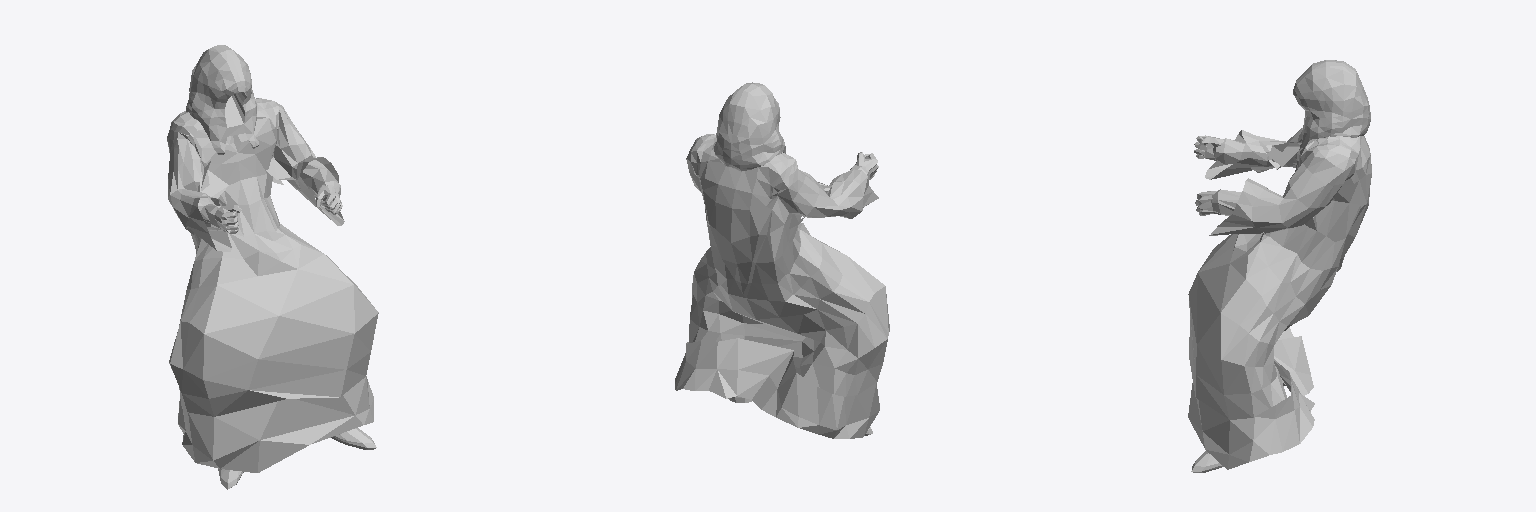
Rendered from Rider_Animate_Grab_Glide_20.obj.
3 renders of one model, left to right at view 1: azimuth 30°, elevation 25°; view 2: azimuth 150°, elevation 25°; view 3: azimuth 270°, elevation 25°, orthographic.
Parts seen in each view (by area): view 1: dm_nazgulrobe_ride_241108; view 2: dm_nazgulrobe_ride_241108; view 3: dm_nazgulrobe_ride_241108.
Part boxes in pixels (x1,y1,x2,y2): dm_nazgulrobe_ride_241108: (167,45,378,489); dm_nazgulrobe_ride_241108: (675,82,889,438); dm_nazgulrobe_ride_241108: (1188,60,1371,472).
Bounding box in the file's own units: 0.3673 × 0.6506 × 0.2849.